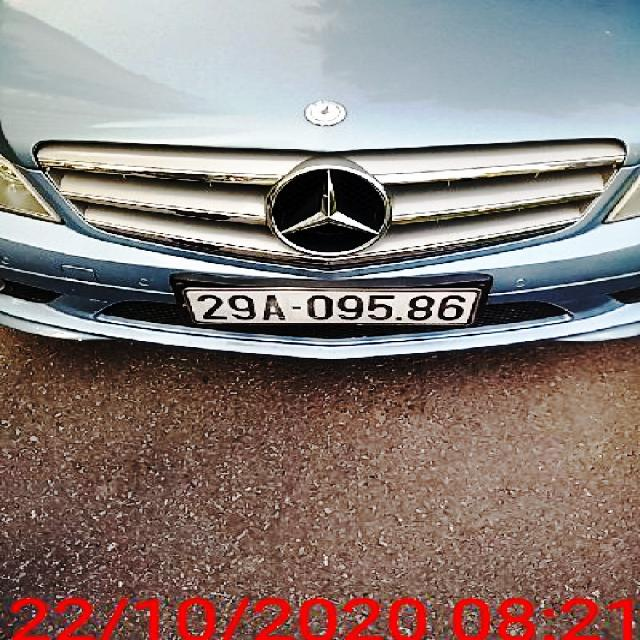license_plate: (185, 282, 496, 329)
